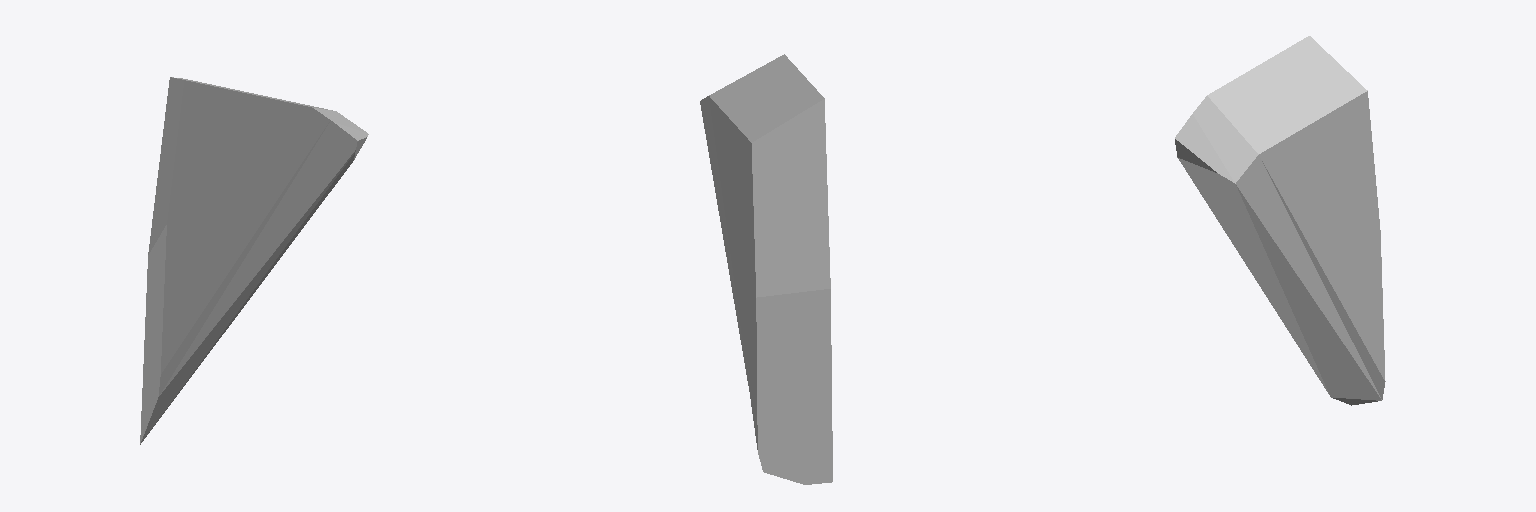
The model's file is li-fang-ti-.001_cell.170.obj.
3 renders of one model, left to right at view 1: azimuth 30°, elevation 25°; view 2: azimuth 150°, elevation 25°; view 3: azimuth 270°, elevation 25°, orthographic.
Visible parts, largest first — view 1: 立方体.001_cell.170; view 2: 立方体.001_cell.170; view 3: 立方体.001_cell.170.
Boxes of the visible parts, box(x1,y1,x2,y2) form: 立方体.001_cell.170: box(140, 77, 368, 444); 立方体.001_cell.170: box(700, 54, 832, 484); 立方体.001_cell.170: box(1175, 36, 1385, 405).
Size of the model in its own units: 0.0841 by 0.1648 by 0.0849.